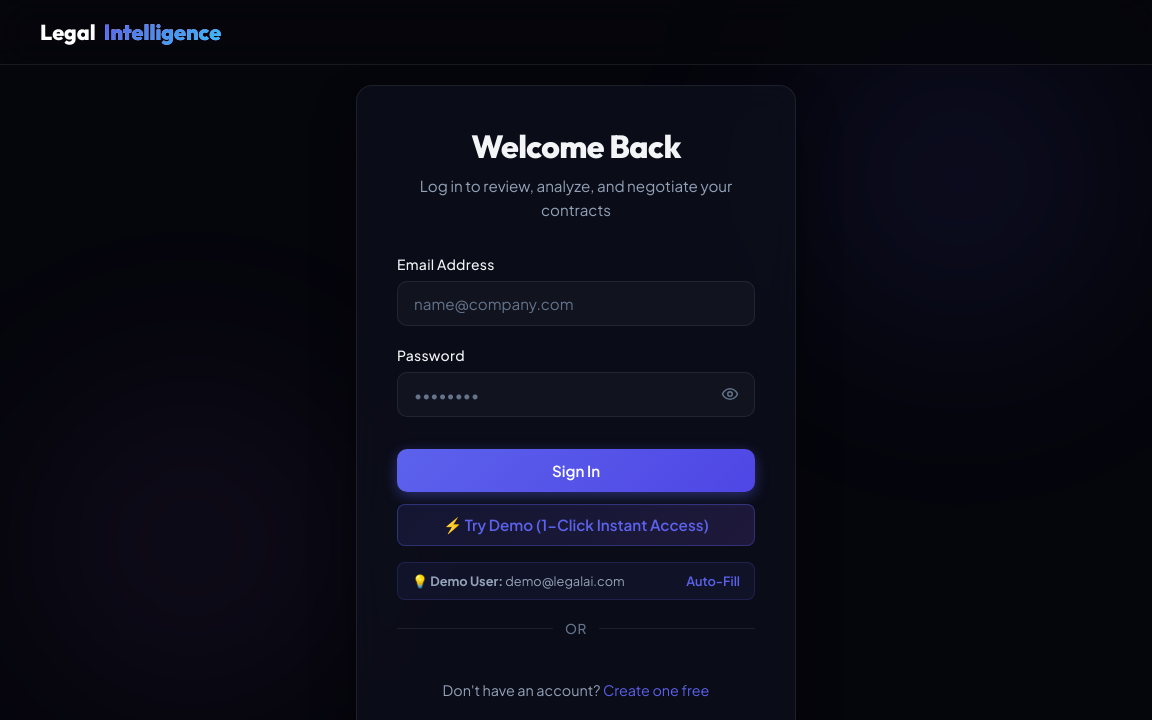
Test case: LoginPage Component Tests › transitions to Email OTP step when 2FA is required by backend
This screenshot has width=1152, height=720.
In the field with placeholder "name@company.com": [576, 303] box [397,281,755,326], type "lawyer@example.com"
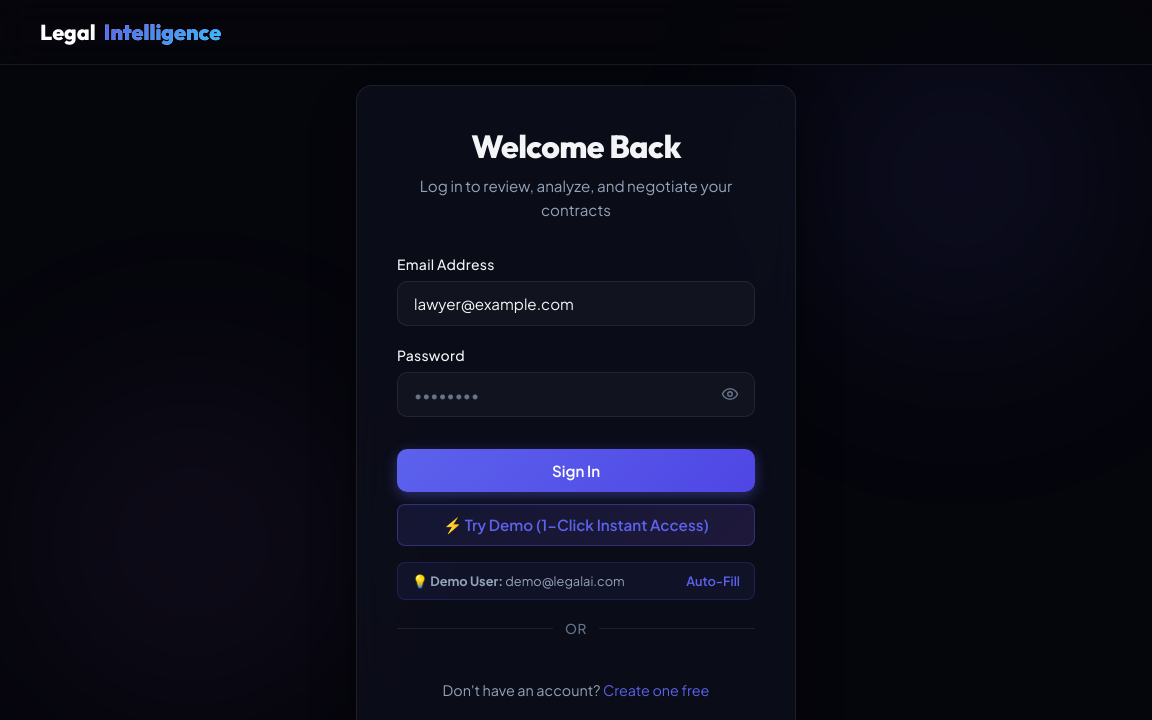
In the password field with placeholder "••••••••": [576, 394] box [397,372,755,417], type "SecurePass123!"
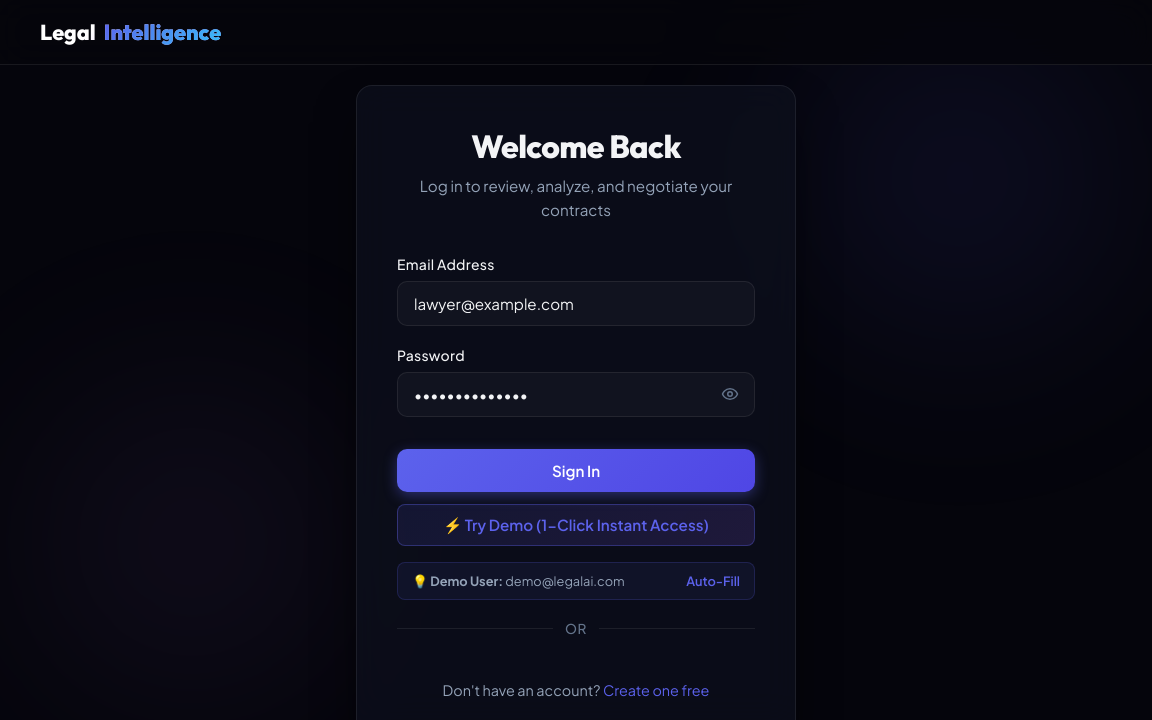
Click the button "Sign In": [576, 470] box [397,449,755,492]
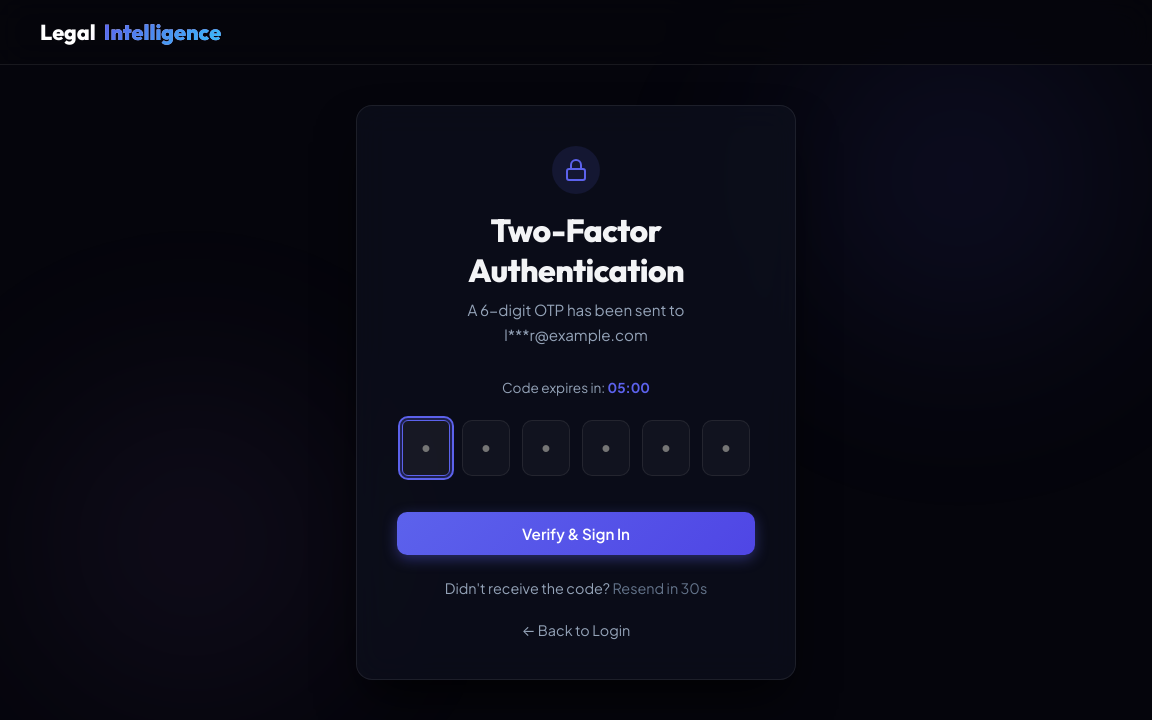
Now the heading "Two-Factor Authentication" is shown, box [468,210,684,290]
Now the text "A 6-digit OTP has been sent to l***r@example.com" is shown, box [468,300,684,344]
Now the number of fields is 6, box [402,420,450,476]; [462,420,510,476]; [522,420,570,476]; [582,420,630,476]; [642,420,690,476]; [702,420,750,476]
